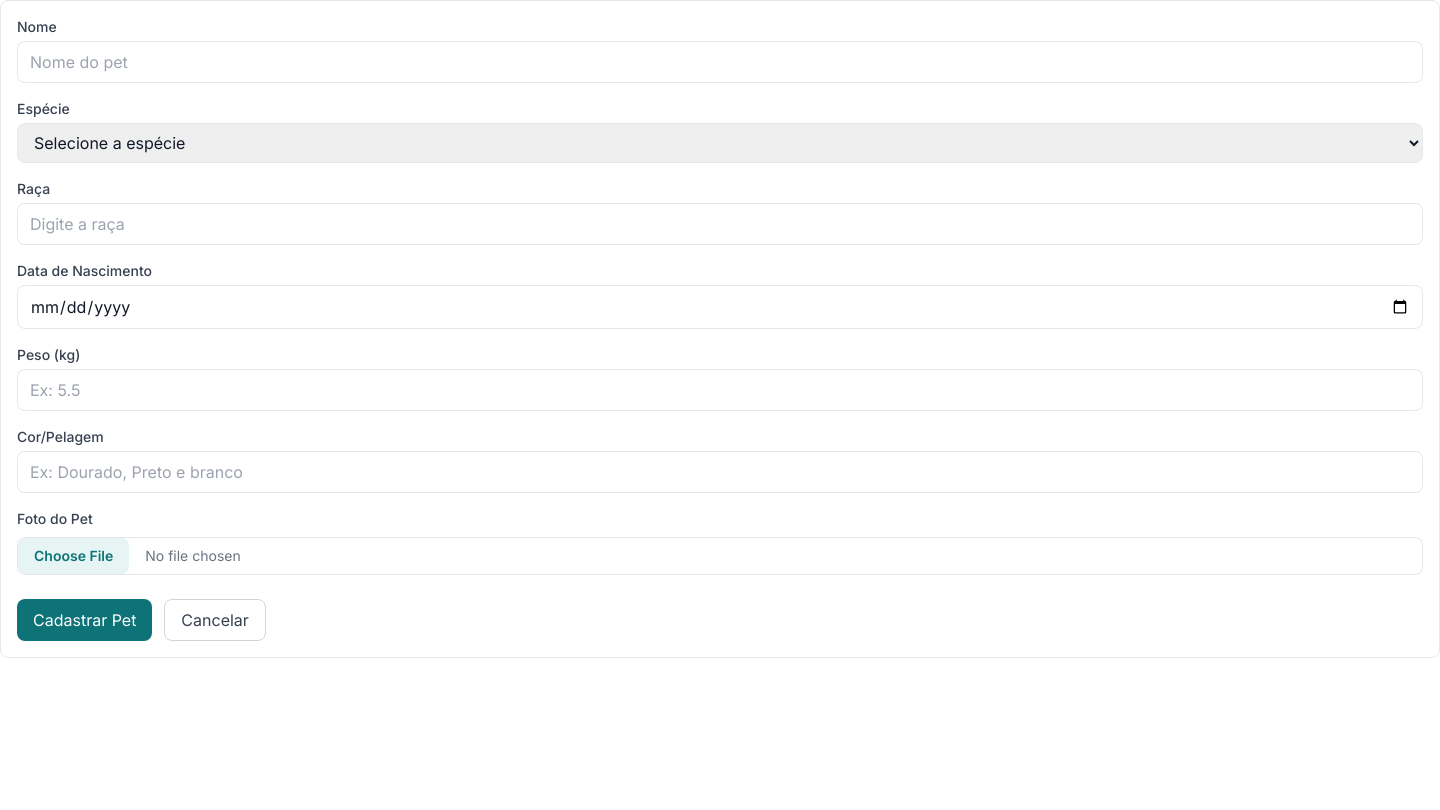
Test: PetForm › should display error messages for required fields when submitted empty
The image size is (1440, 810).
Click the button "Cadastrar Pet" at [85, 620], box x1=17 y1=599 x2=152 y2=641
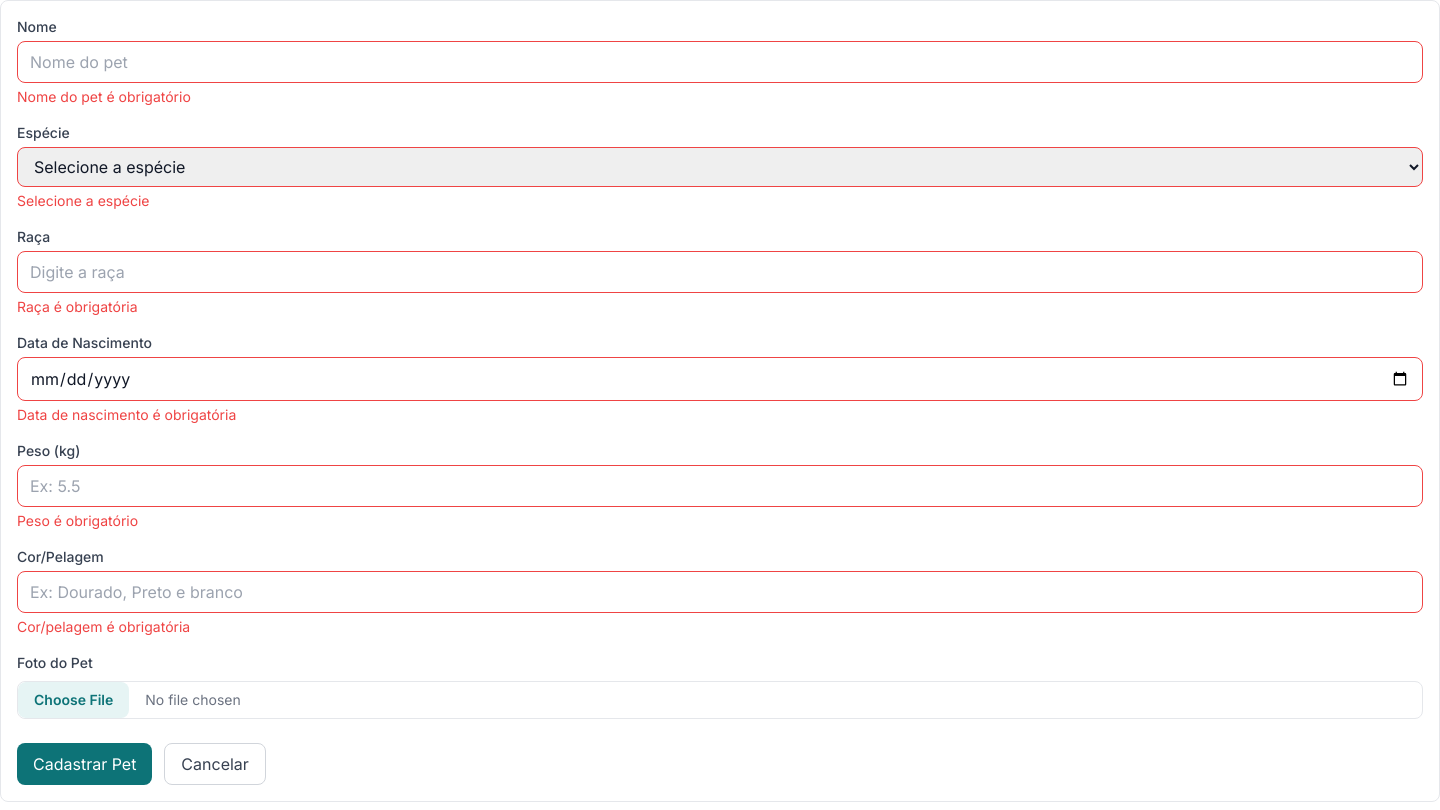
Now the text "Nome do pet é obrigatório" is shown, box x1=17 y1=88 x2=191 y2=105
Now the text "Selecione a espécie" is shown, box x1=17 y1=192 x2=150 y2=209
Now the text "Raça é obrigatória" is shown, box x1=17 y1=298 x2=138 y2=315
